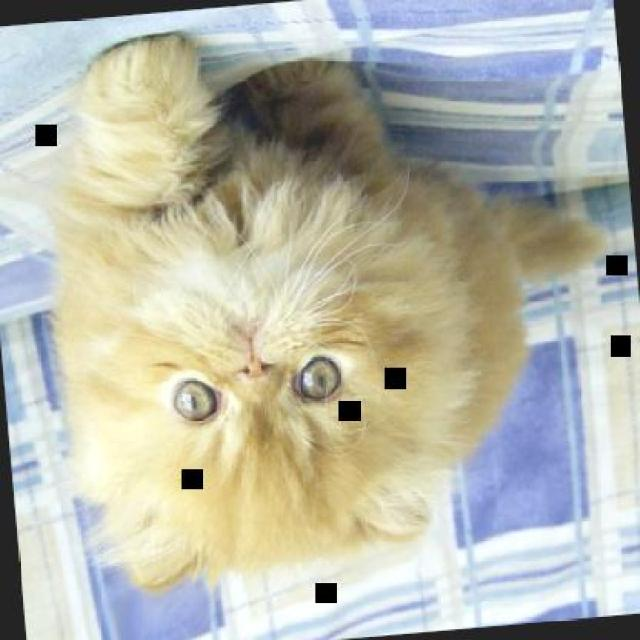cat: (29, 0, 634, 602)
